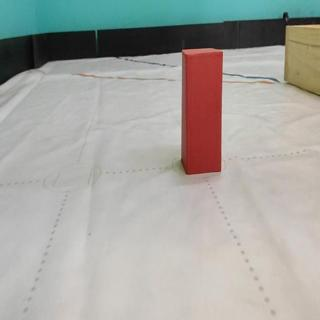redbox: (181, 47, 223, 176)
